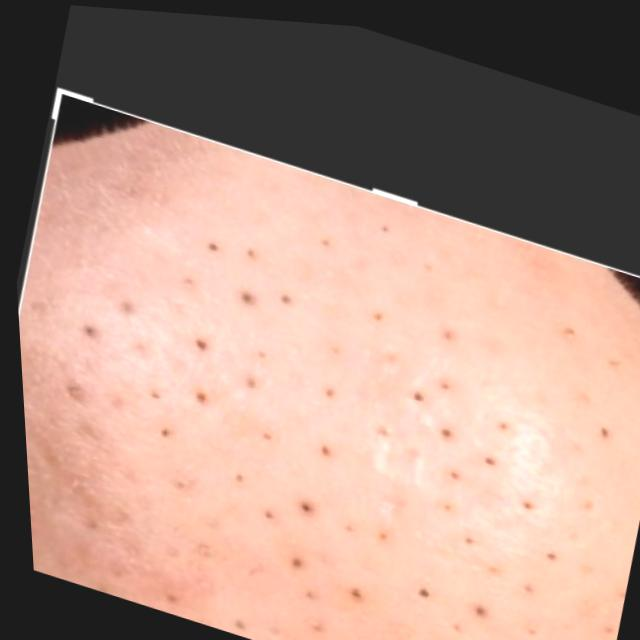blackhead: (68, 207, 604, 640)
